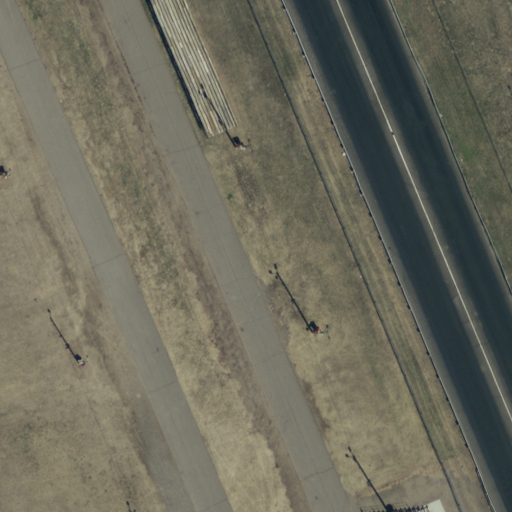DT: (303, 317, 335, 344), (228, 133, 260, 160), (64, 348, 95, 373)
